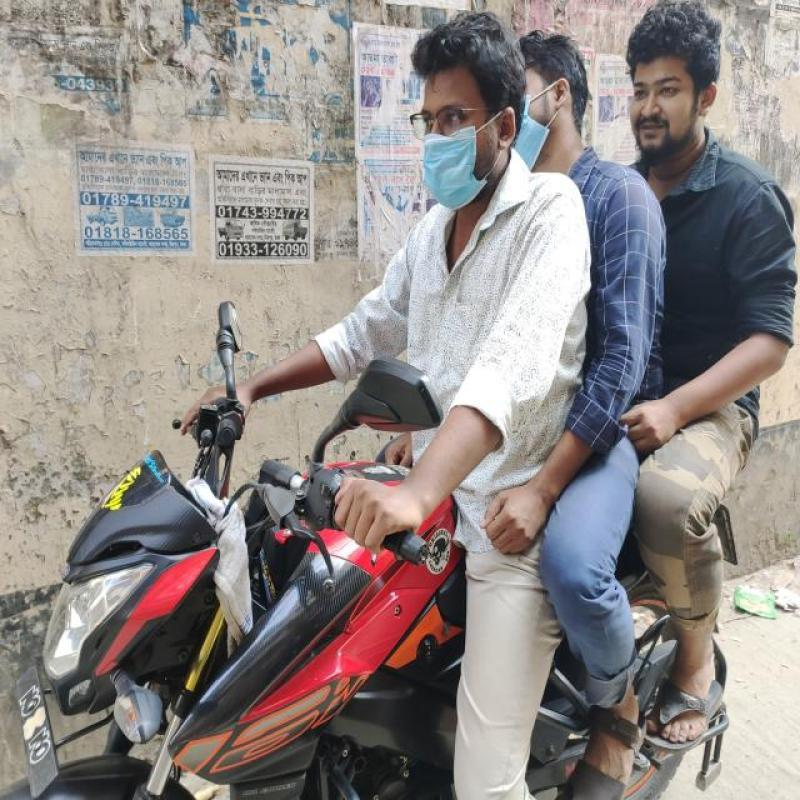nohelmet: (399, 20, 512, 234), (626, 15, 742, 176)
